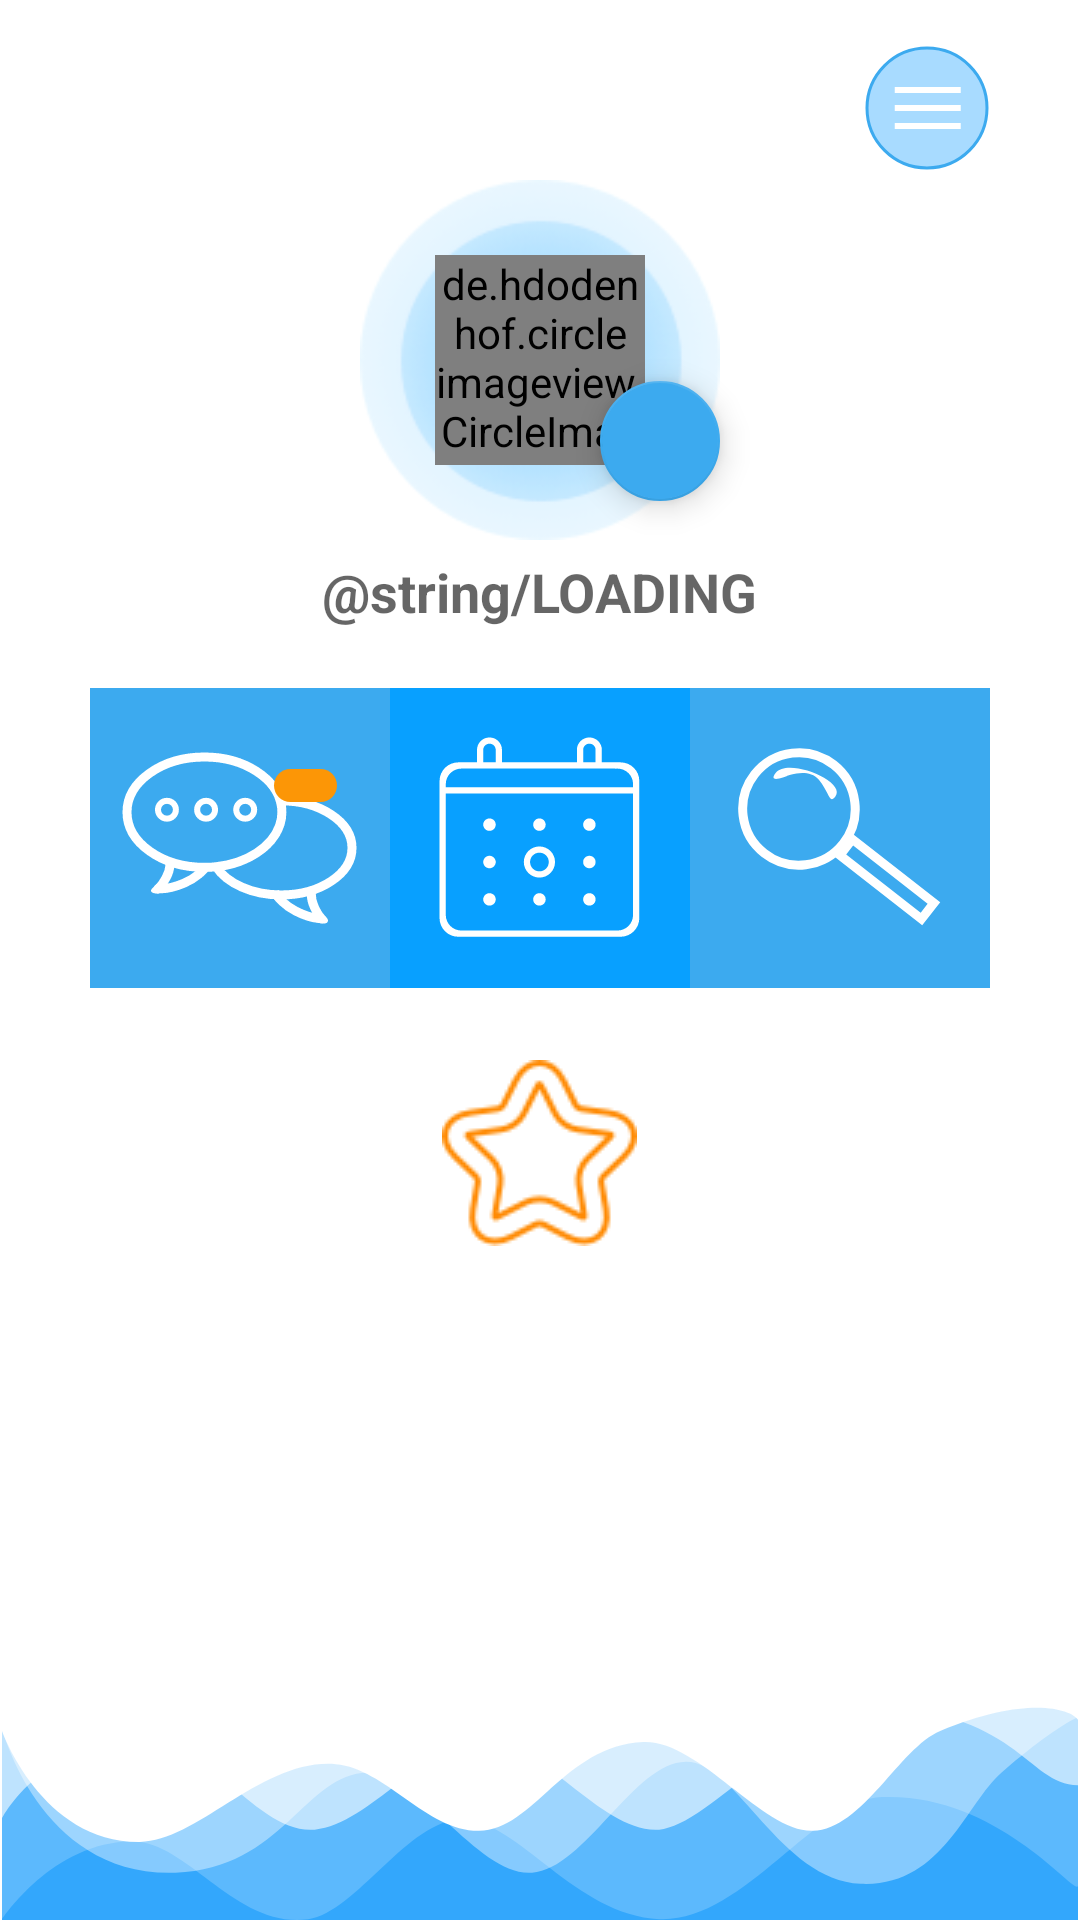

Where icons sit on this 1080x1920 app screen, as (x1, y1, x2, y2):
gotosetting: (865, 46, 989, 170)
iconcalendarwhite: (439, 737, 640, 937)
iconchatwhite: (122, 752, 357, 924)
iconfavoriteorange: (442, 1060, 637, 1246)
iconfindwhite: (738, 748, 940, 925)
